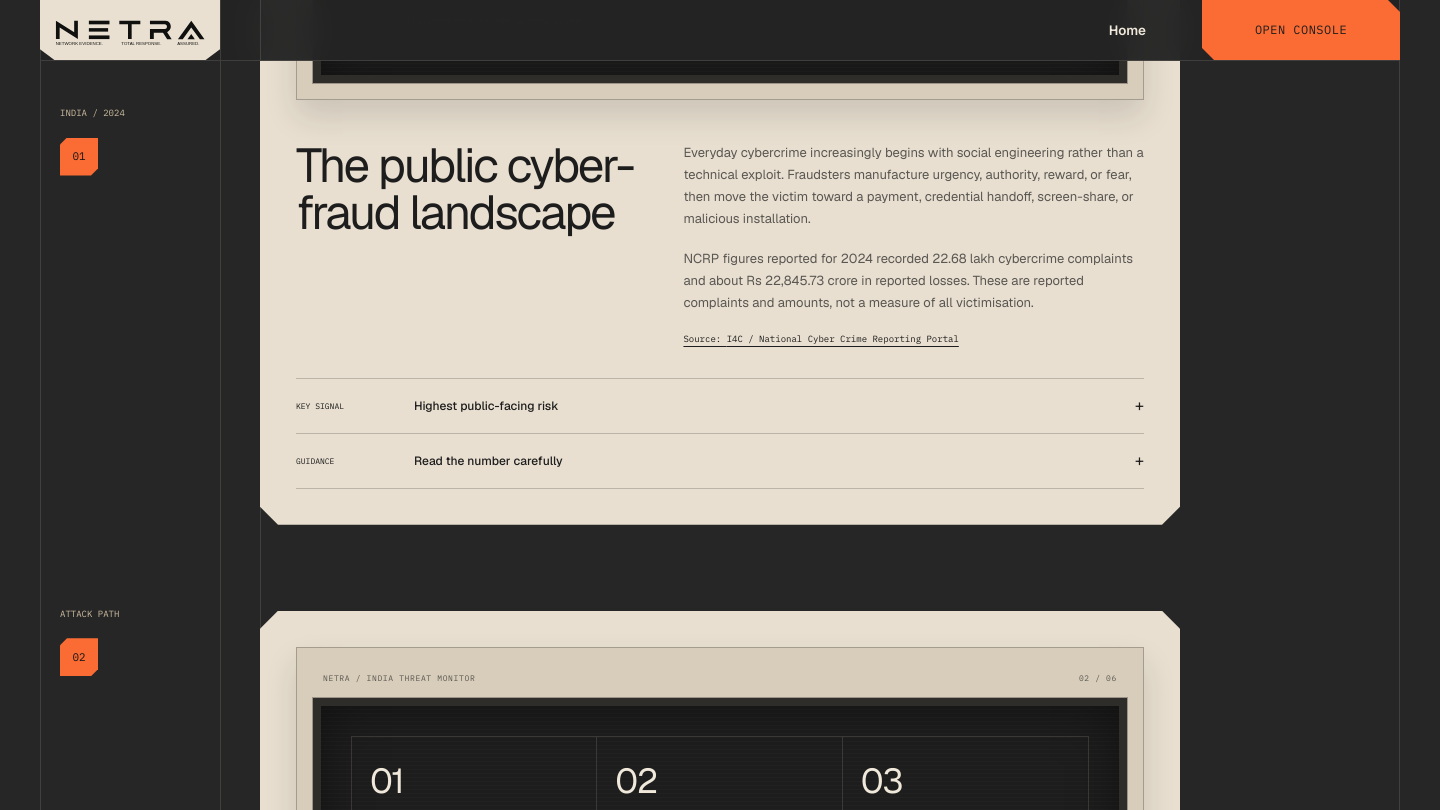
public updates interactions › renders the India threat cards and expands guidance
(page scrolled)
What coordinates should you click on to do the following:
click the button "KEY SIGNAL Highest public-facing risk +"
I would click on:
 (320, 406)
Its box is [296, 379, 1144, 433].
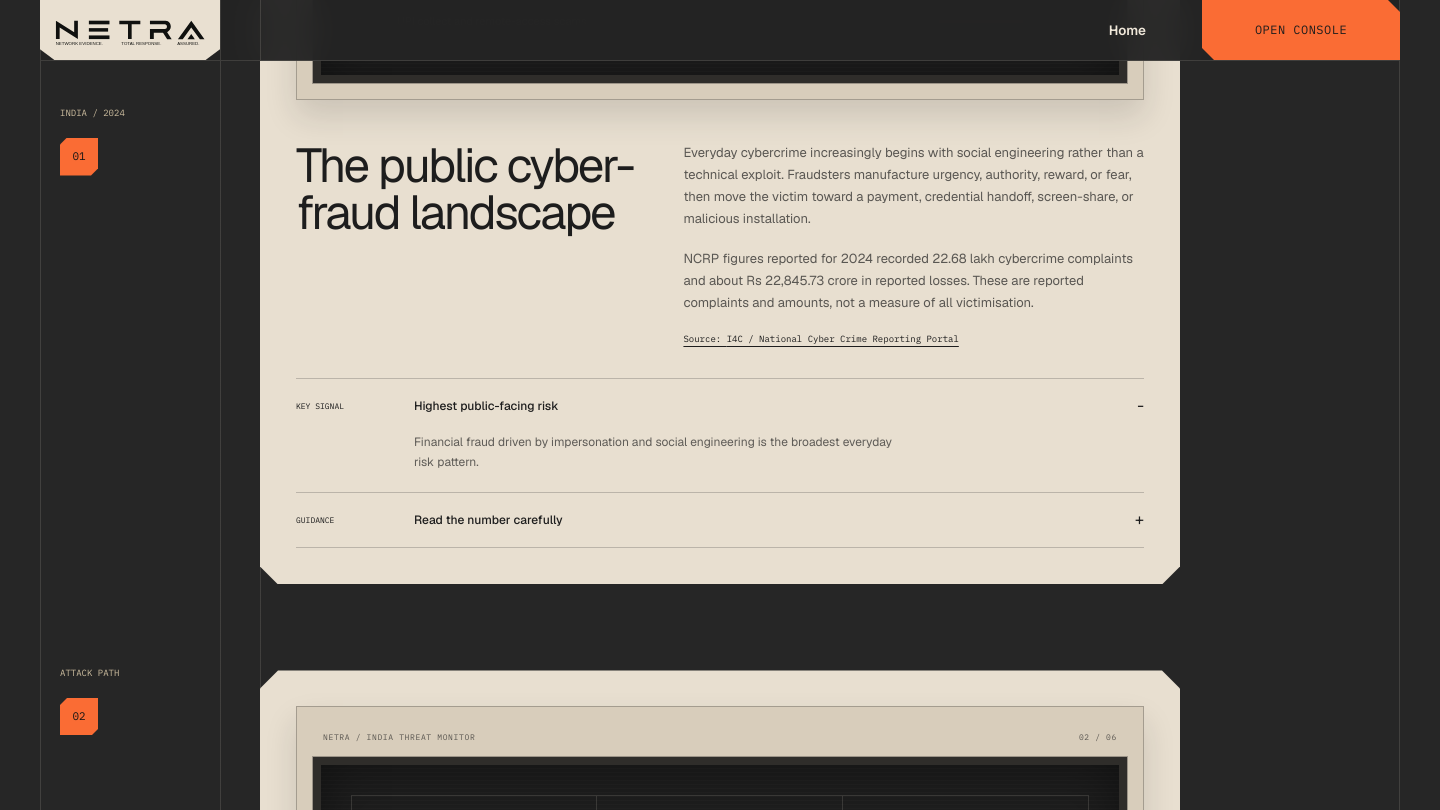
Expected: the text "Financial fraud driven by impersonation" is shown, [414, 434, 892, 470]
